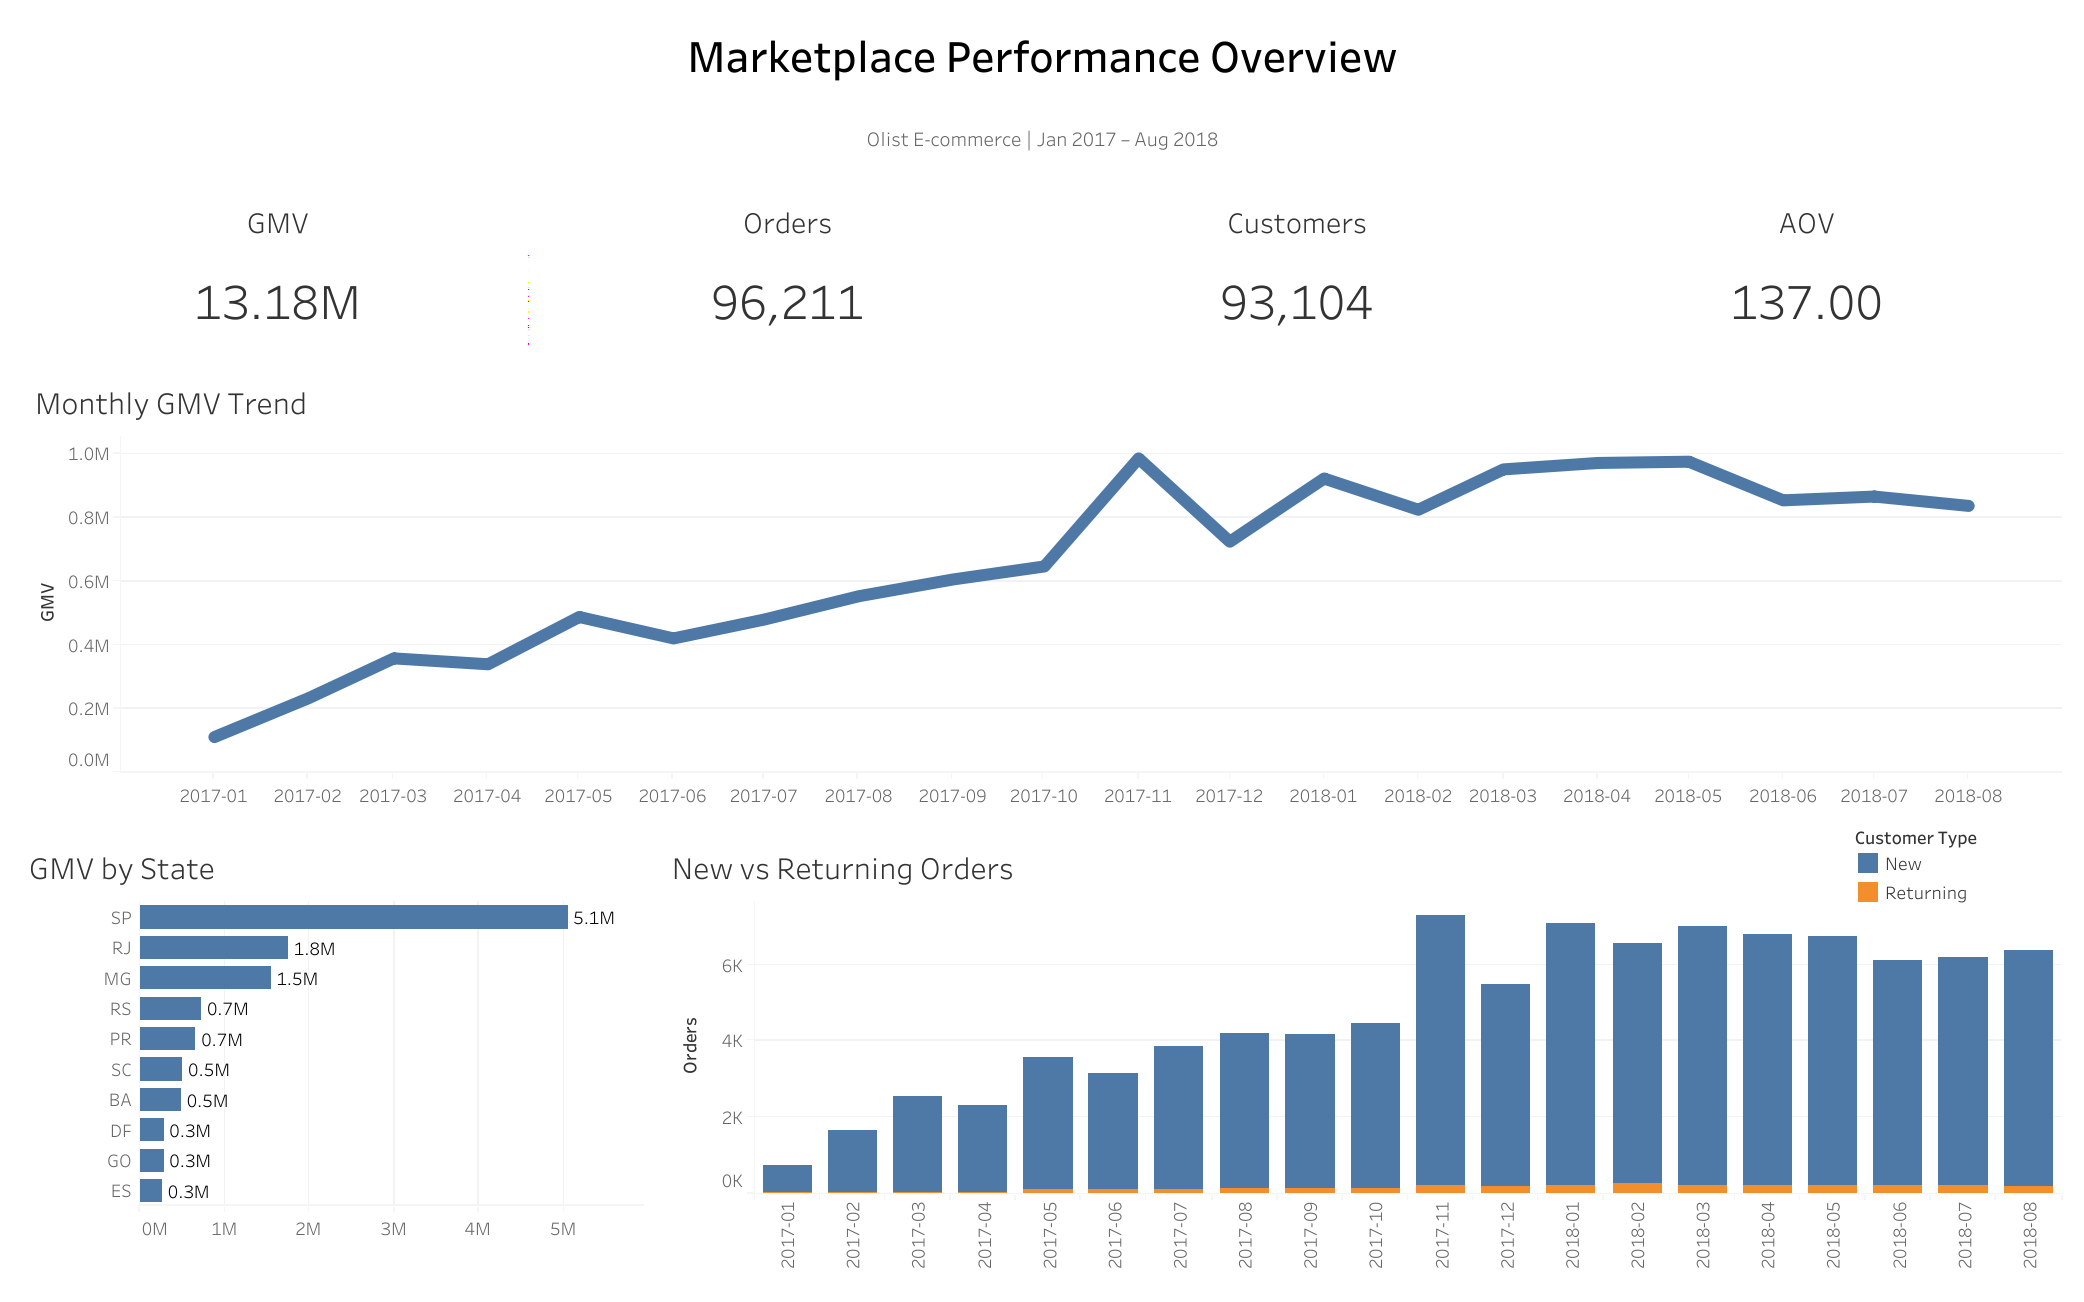

Layout of this report page (visuals, bound fields, positions):
{"tool":"tableau","page":{"name":"Dashboard 1：Marketplace Performance Overview","canvas":[1440,900],"ordinal":0},"visuals":[{"type":"text","box":[8,8,1424,60]},{"type":"text","box":[8,68,1424,54]},{"type":"worksheet","title":"GMV","mark":"Text","box":[16,130,352,112]},{"type":"worksheet","title":"Orders","mark":"Automatic","box":[368,130,352,112]},{"type":"worksheet","title":"Custormers","mark":"Automatic","box":[720,130,352,112]},{"type":"worksheet","title":"AOV","mark":"Automatic","box":[1072,130,352,112]},{"type":"worksheet","title":" Monthly GMV Trend","mark":"Automatic","rows":["gmv"],"cols":["purchase_month"],"box":[8,250,1424,321]},{"type":"legend","title":"New vs Returning Orders","param":"[federated.0h17sdu0cdaegv1c6pvda0u5x4aq].[none:customer_type:nk]","box":[1280,567,140,73]},{"type":"worksheet","title":"GMV by State","mark":"Bar","rows":["customer_state"],"cols":["gmv"],"box":[8,571,444,321]},{"type":"worksheet","title":"New vs Returning Orders","mark":"Automatic","rows":["orders"],"cols":["month"],"box":[452,571,979.9,321]}]}

Visuals, with their boxes in screenshot pixels (x1, y1, x2, y2), scaled from the page's 1440x900 canvas onto the 2084x1302 screenshot:
text: box(12, 12, 2072, 98)
text: box(12, 98, 2072, 176)
"GMV" worksheet (Text marks): box(23, 188, 533, 350)
"Orders" worksheet: box(533, 188, 1042, 350)
"Custormers" worksheet: box(1042, 188, 1551, 350)
"AOV" worksheet: box(1551, 188, 2061, 350)
" Monthly GMV Trend" worksheet: box(12, 362, 2072, 826)
"New vs Returning Orders" legend: box(1852, 820, 2055, 926)
"GMV by State" worksheet (Bar marks): box(12, 826, 654, 1290)
"New vs Returning Orders" worksheet: box(654, 826, 2072, 1290)
